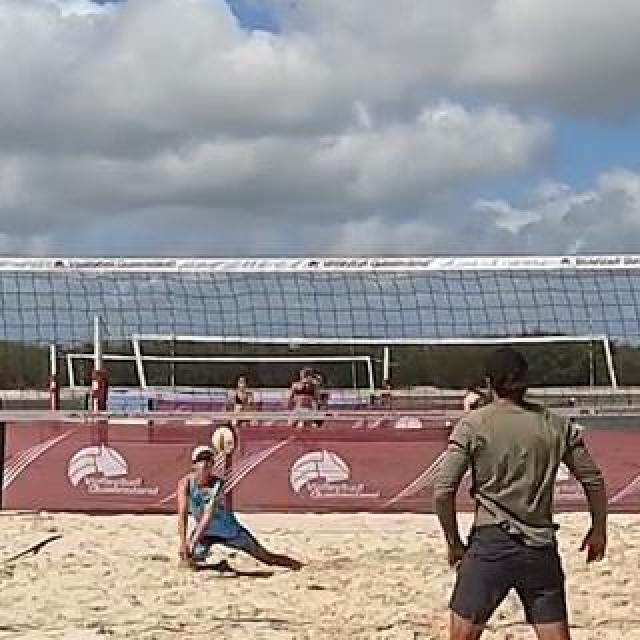volleyball: (212, 427, 236, 451)
